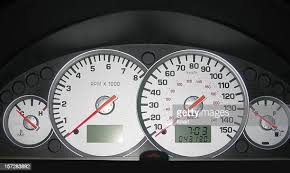Digital_Meter: (171, 124, 213, 143)
